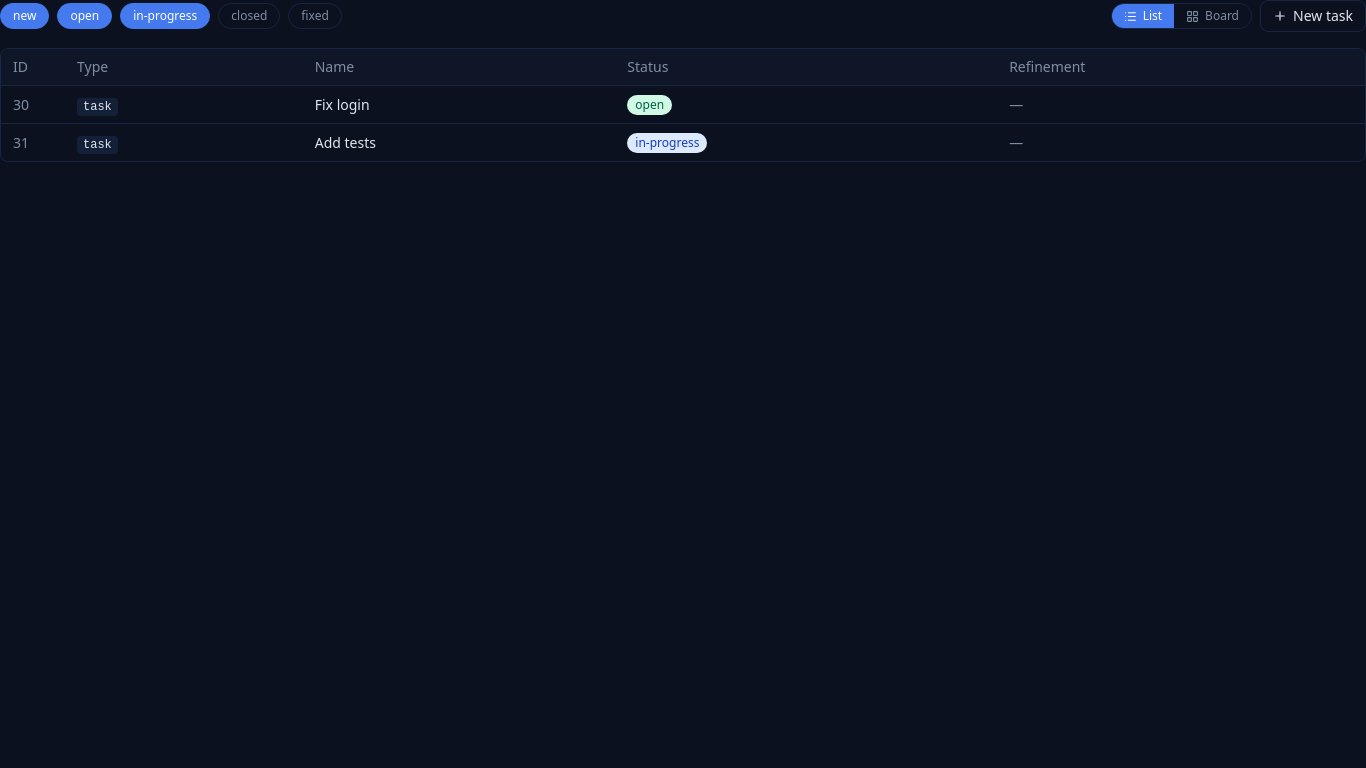
Scenario: Test 8 — Missing Tasks group surfaces blocking message › positive: empty linkedto+name=Tasks response → dialog shows the no-group message
Click the button with test id "new-task-button": (1313, 16) [1260,0,1365,32]
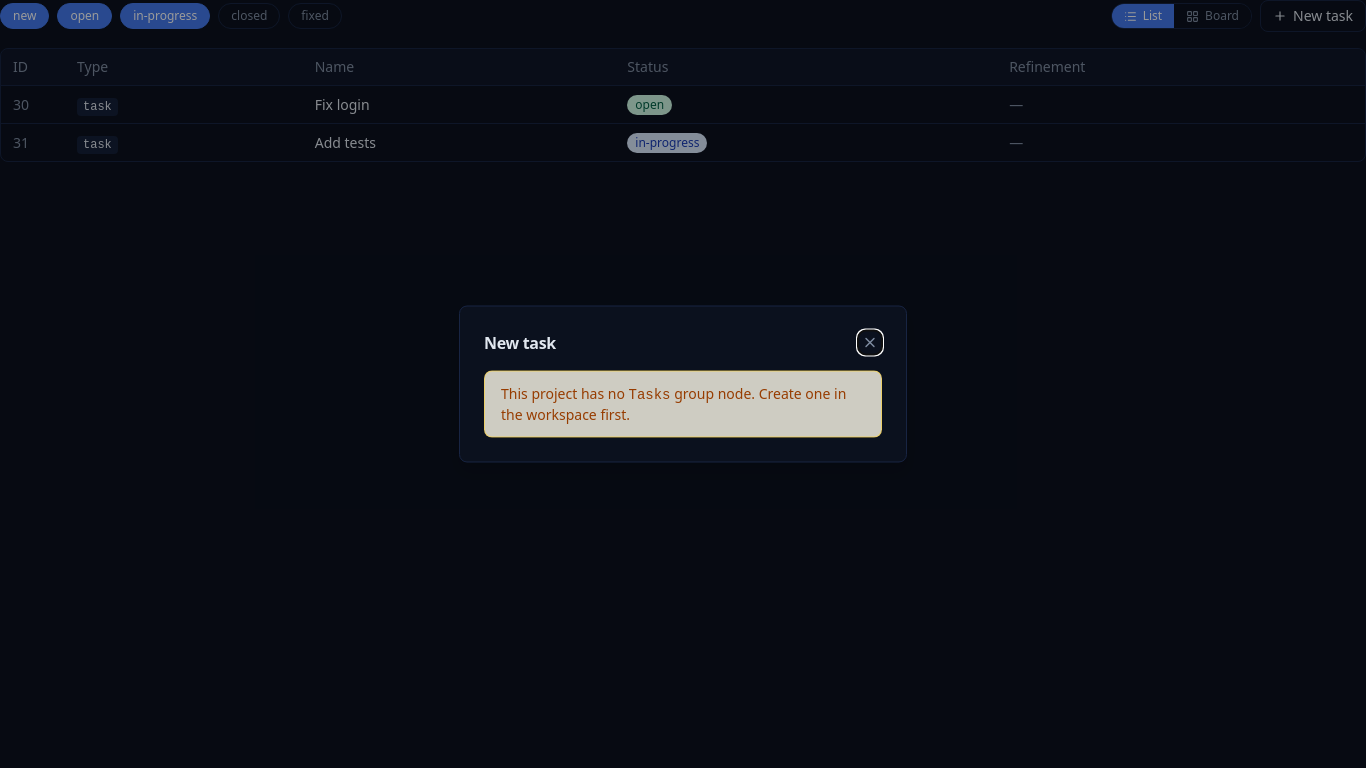
Expected: the message "This project has no Tasks group node. Create one in the workspace first." is shown, [484,370,882,438]
